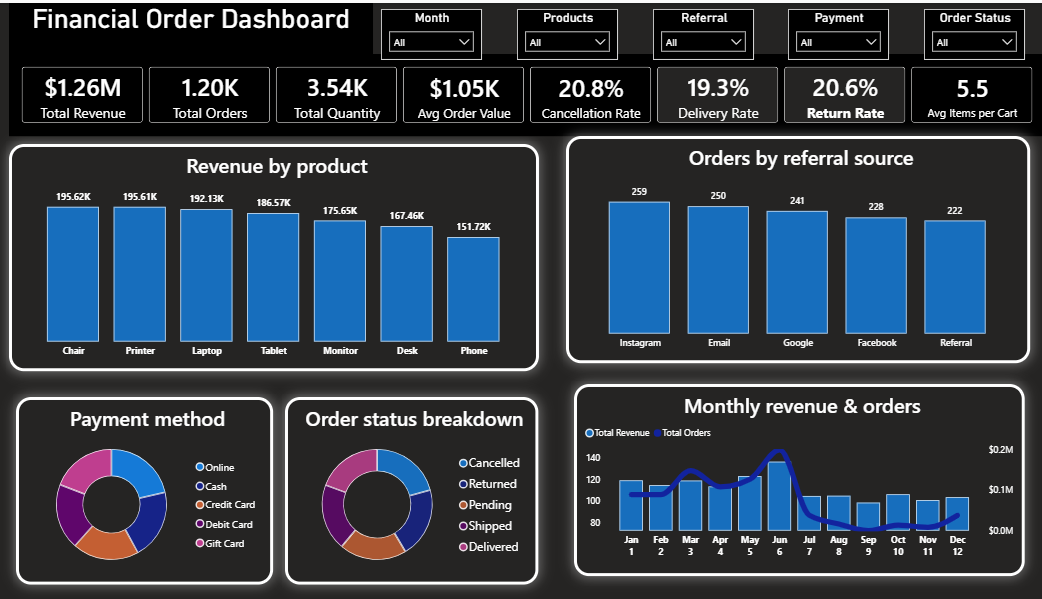

The dashboard page shown, as its layout file describes it:
{"tool":"powerbi","page":{"name":"Page 1","canvas":[1400,800],"ordinal":0},"visuals":[{"type":"clusteredColumnChart","title":"Revenue by product\n","fields":{"Category":["Sheet1.Product"],"Y":["Sum(Sheet1.TotalPrice)"]},"box":[12.9,188.6,708.6,304.3],"z":0},{"type":"textbox","title":"Financial Order Dashboard ","box":[12.9,0,487.1,102.9],"z":1000},{"type":"cardVisual","fields":{"Data":["_Measures.Total Revenue","_Measures.Total Orders","_Measures.Total Quantity","_Measures.Avg Order Value","_Measures.Cancellation Rate","_Measures.Delivery Rate","_Measures.Return Rate","_Measures.Avg Items per Cart"]},"box":[13.4,68.2,1387.3,109.7],"z":2000},{"type":"clusteredColumnChart","title":"Orders by referral source\n","fields":{"Category":["Sheet1.ReferralSource"],"Y":["_Measures.Total Orders"]},"box":[758.6,178.6,621.4,304.3],"z":3000},{"type":"donutChart","title":"Payment method\n","fields":{"Y":["_Measures.Total Orders"],"Category":["Sheet1.PaymentMethod"]},"box":[22.9,527.1,344.3,251.4],"z":4000},{"type":"donutChart","title":"Order status breakdown\n","fields":{"Y":["_Measures.Total Orders"],"Category":["Sheet1.OrderStatus"]},"box":[382.9,527.1,338.6,251.4],"z":5000},{"type":"lineStackedColumnComboChart","title":"Monthly revenue & orders\n","fields":{"Category":["Sheet1.Month","Sheet1.MonthName"],"Y2":["_Measures.Total Orders"],"Y":["_Measures.Total Revenue"]},"box":[768.6,510,602.9,257.1],"z":6000},{"type":"slicer","title":"Month","fields":{"Values":["Sheet1.MonthName"]},"box":[511,8,135.1,68.2],"z":6001},{"type":"slicer","title":"Products","fields":{"Values":["Sheet1.Product"]},"box":[692.6,8,135.1,68.2],"z":6002},{"type":"slicer","title":"Referral","fields":{"Values":["Sheet1.ReferralSource"]},"box":[874.2,8,135.1,68.2],"z":6003},{"type":"slicer","title":"Payment","fields":{"Values":["Sheet1.PaymentMethod"]},"box":[1055.9,8,135.1,68.2],"z":6004},{"type":"slicer","title":"Order Status","fields":{"Values":["Sheet1.OrderStatus"]},"box":[1237.5,8,135.1,68.2],"z":6005}]}

Visuals, with their boxes in screenshot pixels (x1, y1, x2, y2), scaled from the page's 1400x800 canvas onto the 1042x599 screenshot:
"Revenue by product
" clusteredColumnChart: (left=10, top=141, right=537, bottom=369)
"Financial Order Dashboard " textbox: (left=10, top=0, right=372, bottom=77)
cardVisual - _Measures.Total Revenue x _Measures.Total Orders: (left=10, top=51, right=1041, bottom=133)
"Orders by referral source
" clusteredColumnChart: (left=565, top=134, right=1027, bottom=362)
"Payment method
" donutChart: (left=17, top=395, right=273, bottom=583)
"Order status breakdown
" donutChart: (left=285, top=395, right=537, bottom=583)
"Monthly revenue & orders
" lineStackedColumnComboChart: (left=572, top=382, right=1021, bottom=574)
"Month" slicer: (left=380, top=6, right=481, bottom=57)
"Products" slicer: (left=515, top=6, right=616, bottom=57)
"Referral" slicer: (left=651, top=6, right=751, bottom=57)
"Payment" slicer: (left=786, top=6, right=886, bottom=57)
"Order Status" slicer: (left=921, top=6, right=1022, bottom=57)
